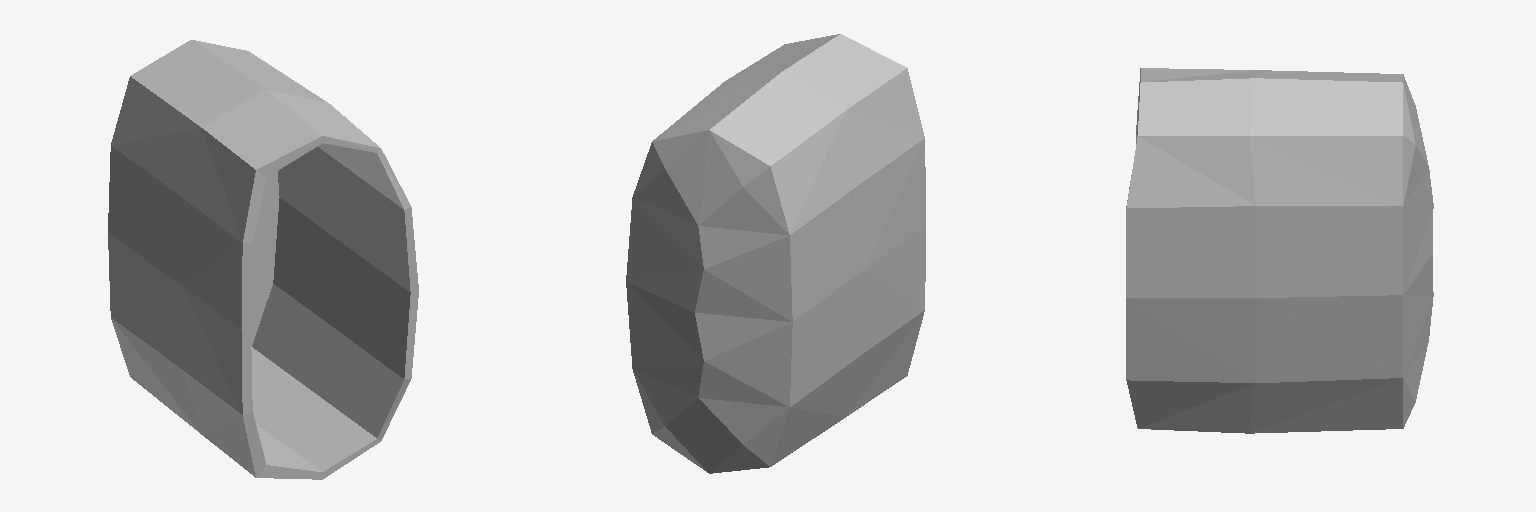
File: container.obj
The picture shows the model from 3 angles: view 1: azimuth 30°, elevation 25°; view 2: azimuth 150°, elevation 25°; view 3: azimuth 270°, elevation 25°; orthographic projection.
Parts seen in each view (by area): view 1: container_Cube.002; view 2: container_Cube.002; view 3: container_Cube.002.
Boxes of the visible parts, x1=… form: container_Cube.002: x1=108, y1=40, x2=418, y2=479; container_Cube.002: x1=626, y1=34, x2=925, y2=473; container_Cube.002: x1=1126, y1=68, x2=1433, y2=433.
Size of the model in its own units: 0.4326 by 0.8445 by 0.6661.